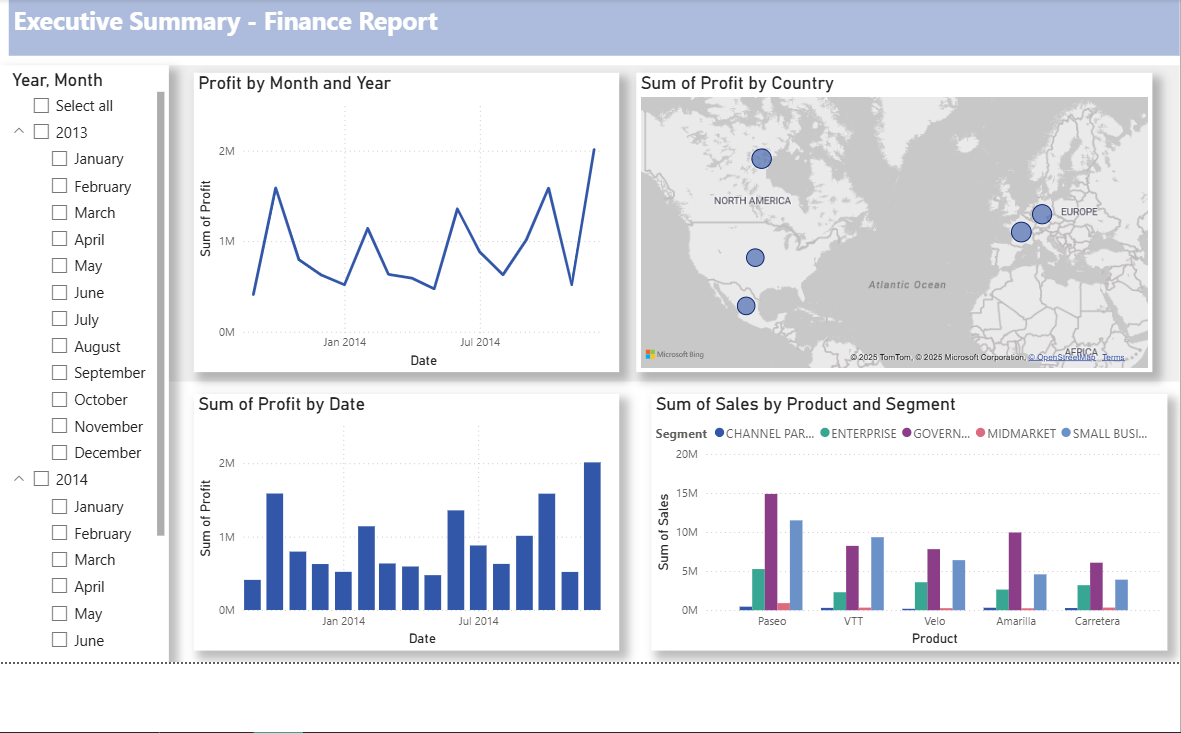

Layout of this report page (visuals, bound fields, positions):
{"tool":"powerbi","page":{"name":"Page 1","canvas":[1280,720],"ordinal":0},"visuals":[{"type":"shape","box":[183.3,71.7,1096.7,343.3],"z":0},{"type":"textbox","title":"Executive Summary - Finance Report","box":[10,0,1270,61.7],"z":1000},{"type":"columnChart","fields":{"Y":["Sum(financials.Profit)"],"Category":["Calendar.Date"]},"box":[210,428.3,461.7,278.3],"z":2000},{"type":"lineChart","title":"Profit by Month and Year","fields":{"Y":["Sum(financials.Profit)"],"Category":["Calendar.Date"]},"box":[210,80,461.7,325],"z":3000},{"type":"map","fields":{"Category":["financials.Country"],"Size":["Sum(financials.Profit)"]},"box":[690,80,560,325],"z":4000},{"type":"clusteredColumnChart","fields":{"Category":["financials.Product"],"Y":["Sum(financials. Sales)"],"Series":["financials.Segment"]},"box":[706.7,428.3,560,278.3],"z":5000},{"type":"slicer","fields":{"Values":["Calendar.Date.Variation.Date Hierarchy.Year","Calendar.Date.Variation.Date Hierarchy.Month"]},"box":[0,71.7,183.3,648.3],"z":6000}]}

Visuals, with their boxes in screenshot pixels (x1, y1, x2, y2):
shape: bbox=[161, 58, 1180, 382]
"Executive Summary - Finance Report" textbox: bbox=[0, 0, 1180, 49]
columnChart - Sum(financials.Profit) x Calendar.Date: bbox=[186, 395, 621, 657]
"Profit by Month and Year" lineChart: bbox=[186, 66, 621, 373]
map - financials.Country x Sum(financials.Profit): bbox=[639, 66, 1167, 373]
clusteredColumnChart - financials.Product x Sum(financials. Sales): bbox=[654, 395, 1180, 657]
slicer - Calendar.Date.Variation.Date Hierarchy.Year x Calendar.Date.Variation.Date Hierarchy.Month: bbox=[0, 58, 161, 670]
